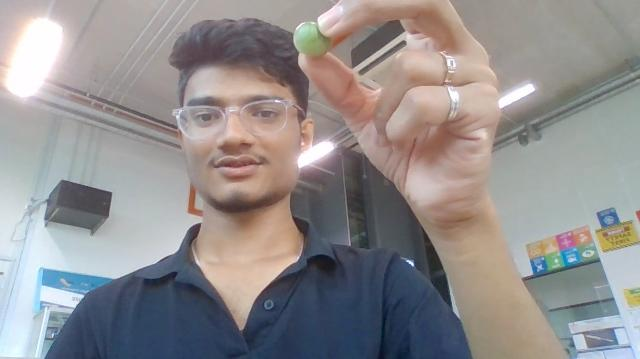Fruit Maturation: (293, 21, 333, 59)
